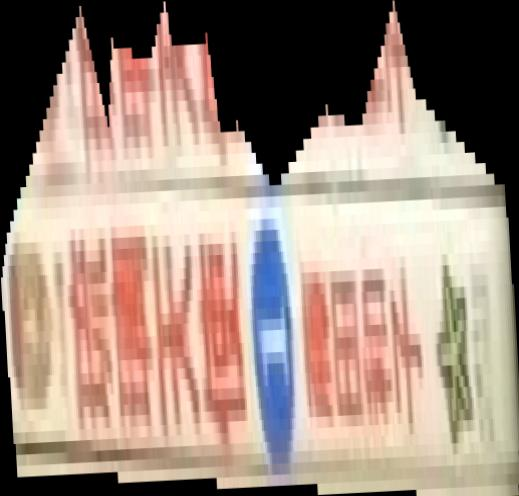flat: (1, 1, 519, 496)
